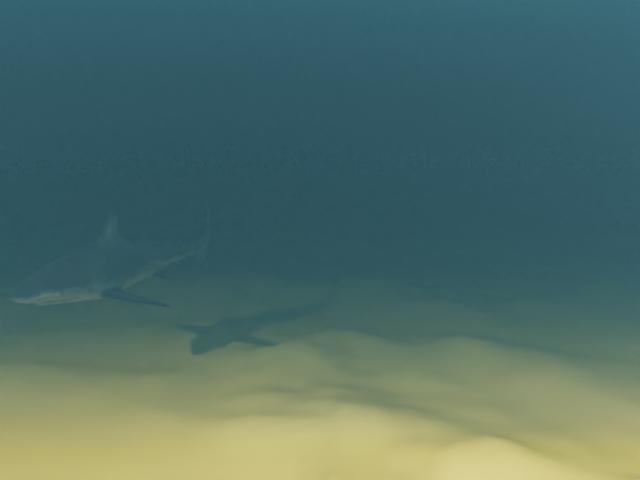Carribean Shark.001: (10, 197, 211, 307)
